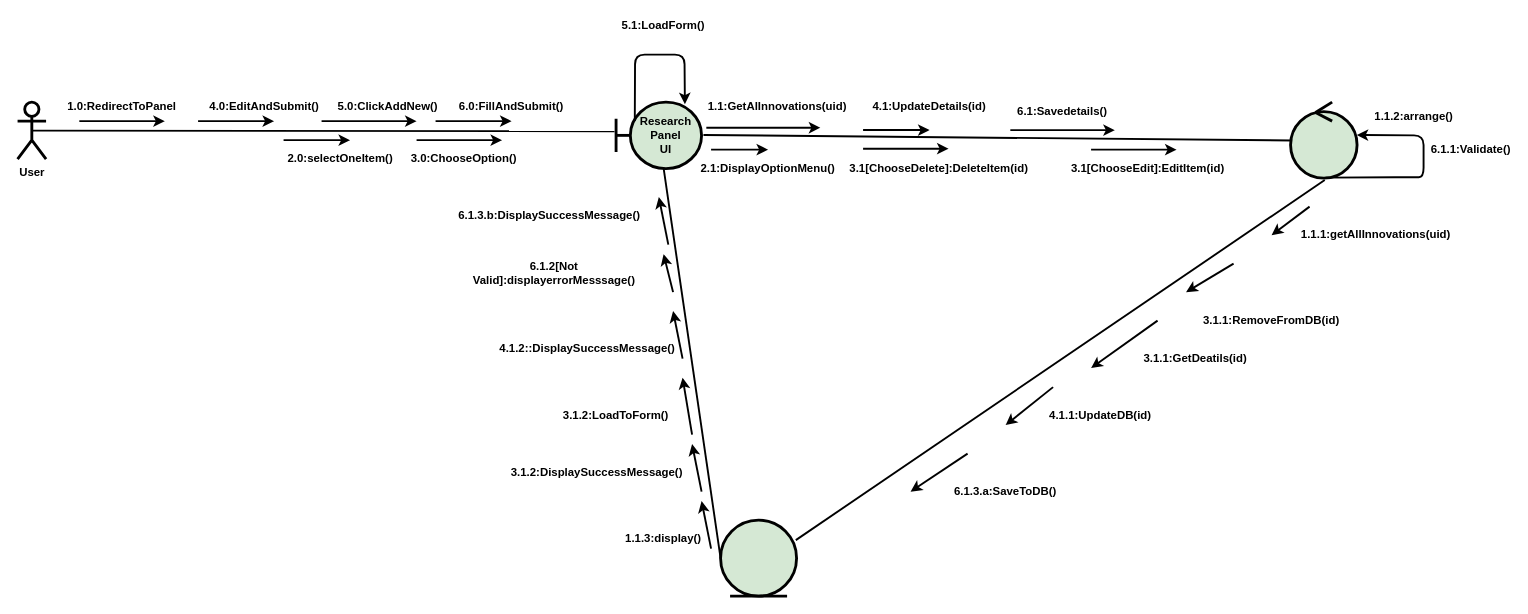
Some shapes in this 1528 by 614 pixel diagram are drawn without their labels. The box of each missing label's shape, as (x1, y1, x2, y2) in pixels:
Innovation Controller: (1289, 100, 1358, 179)
Innovation DB: (719, 518, 798, 597)
